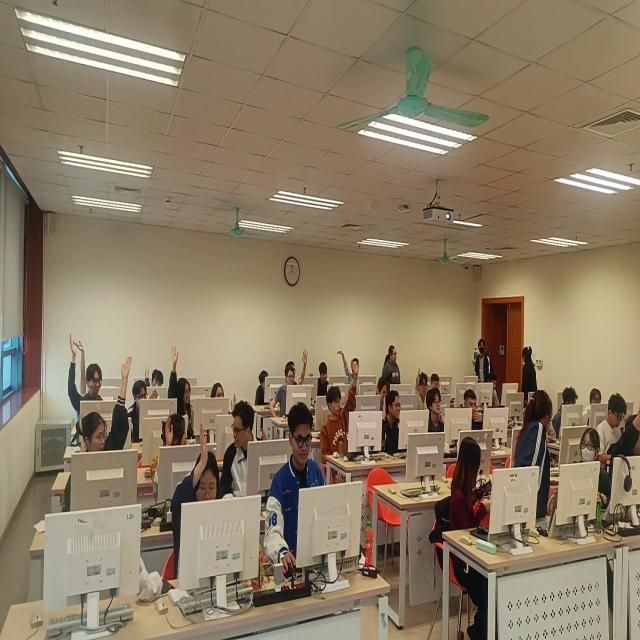raise_hand: (65, 353, 133, 514), (172, 424, 222, 583), (322, 365, 360, 463), (151, 414, 188, 508), (68, 336, 104, 431), (610, 404, 640, 496), (271, 349, 309, 420), (169, 345, 196, 439), (382, 391, 402, 454), (211, 383, 238, 417), (75, 339, 90, 395), (339, 351, 361, 387), (414, 368, 430, 411), (310, 362, 329, 398), (145, 364, 166, 388)
raise_head: (427, 390, 446, 433), (584, 388, 602, 426), (286, 361, 297, 380)
stand: (514, 391, 554, 521), (522, 347, 539, 406), (476, 340, 494, 384), (383, 346, 402, 385)
using_computer: (264, 402, 325, 575), (598, 393, 629, 465), (465, 390, 485, 430), (488, 373, 504, 408), (377, 377, 388, 411), (431, 373, 441, 392)
using_phone: (129, 379, 159, 444)
